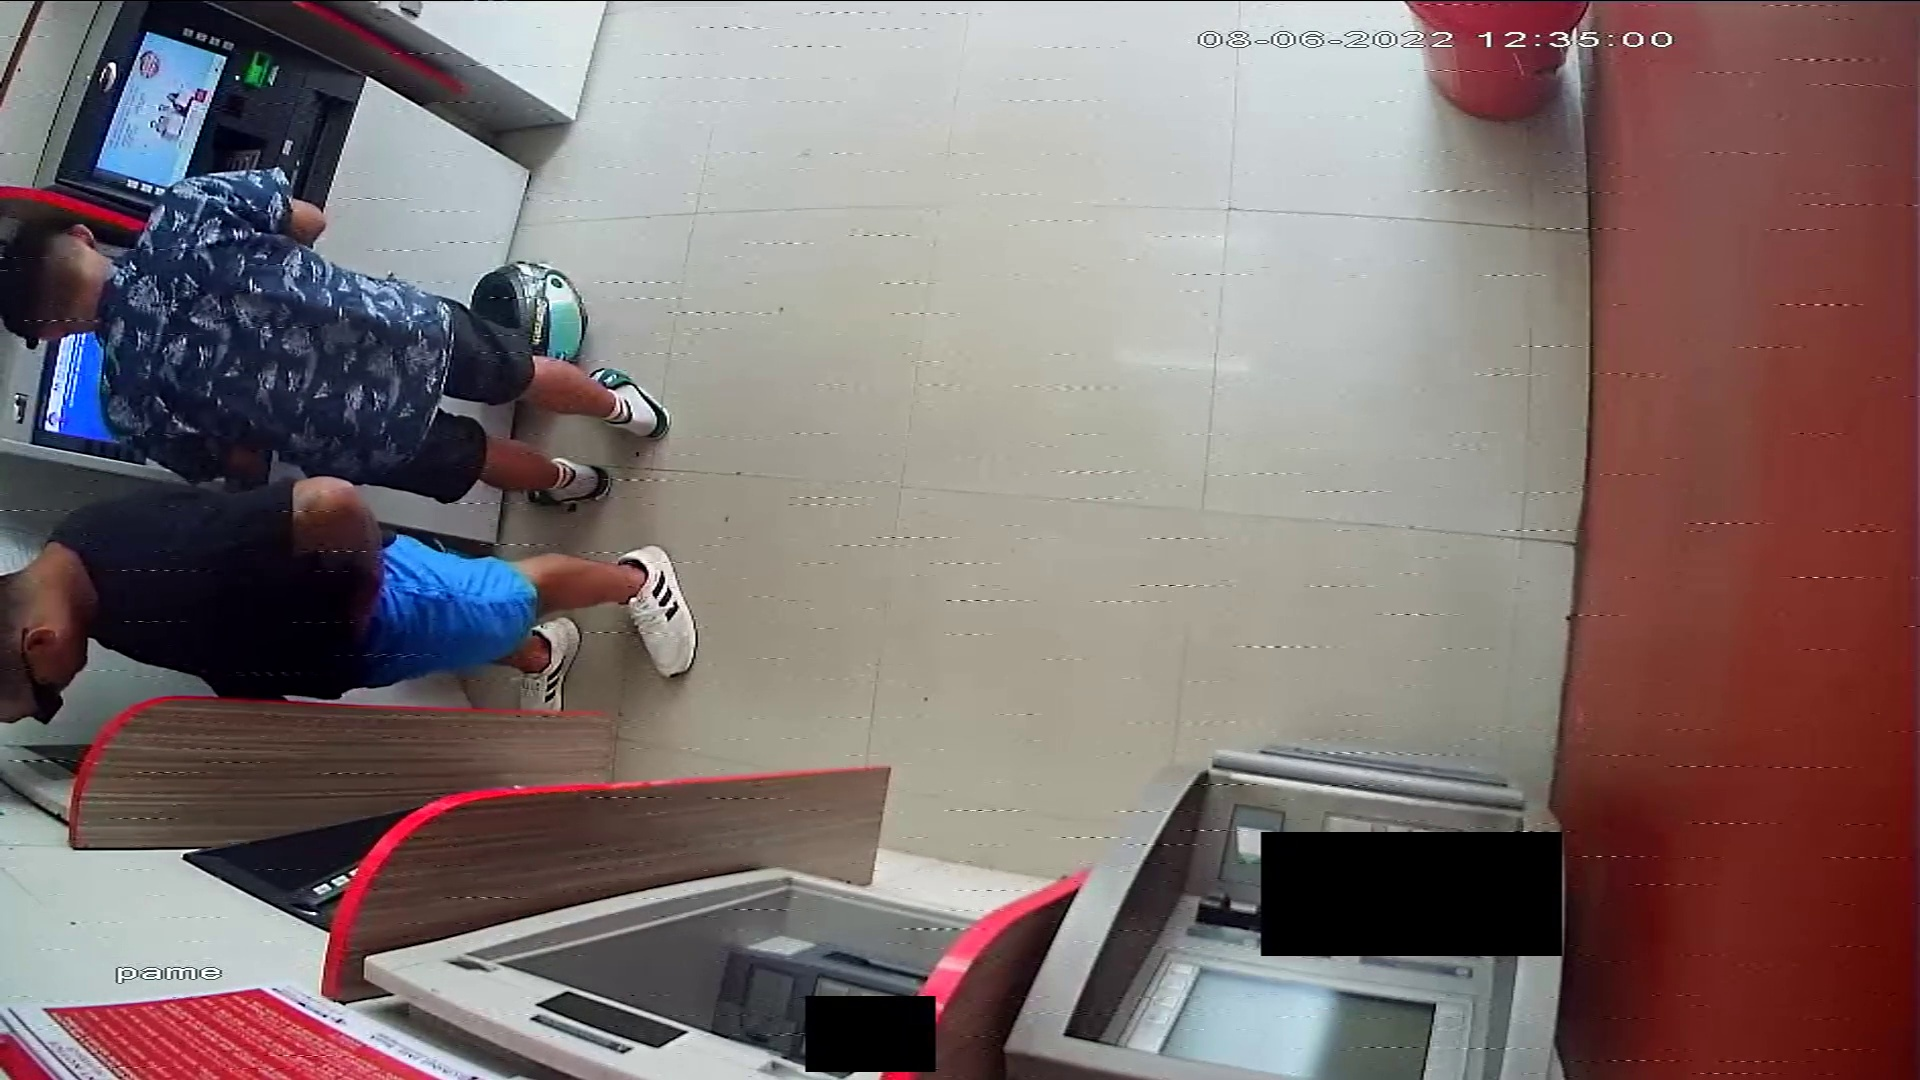helmet: (469, 268, 589, 372)
person: (1, 166, 673, 504), (1, 478, 695, 718)
